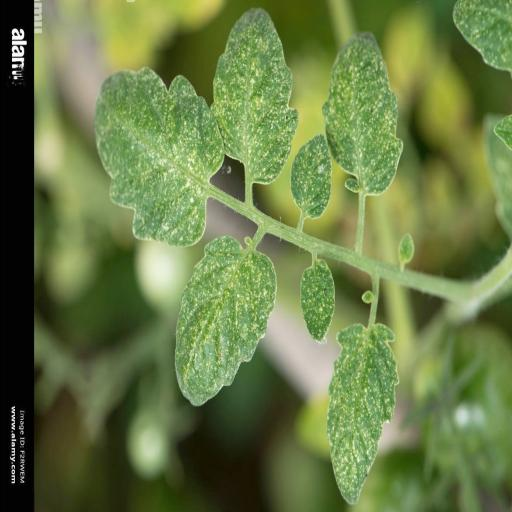Spider Mites: (92, 68, 223, 248), (172, 236, 276, 408), (210, 7, 298, 185), (324, 321, 400, 507), (322, 31, 402, 198), (288, 136, 332, 222), (299, 260, 335, 344)
